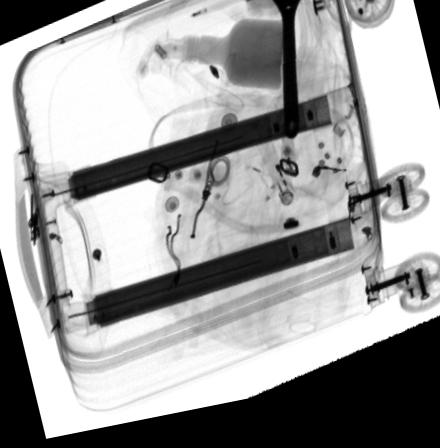Wrench: (270, 0, 305, 151)
